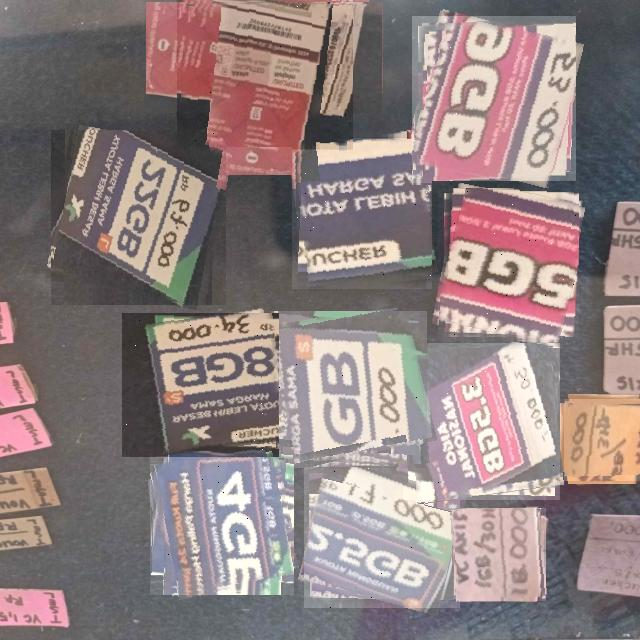Axis: (51, 130, 226, 305), (412, 16, 576, 181), (403, 343, 560, 500), (271, 311, 427, 468), (122, 313, 279, 457), (304, 467, 460, 608), (438, 188, 579, 342), (292, 134, 432, 288), (150, 452, 294, 595), (452, 508, 546, 601), (564, 399, 640, 481)
smartfren: (177, 0, 353, 147)
